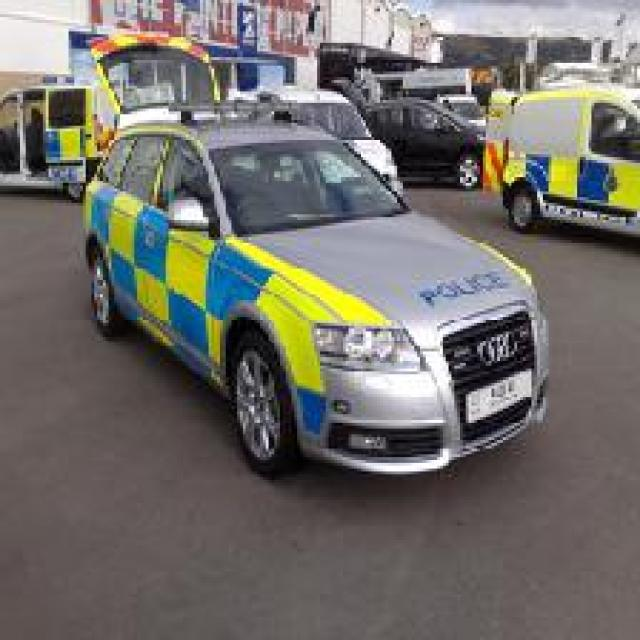Police-car: (74, 26, 552, 480)
